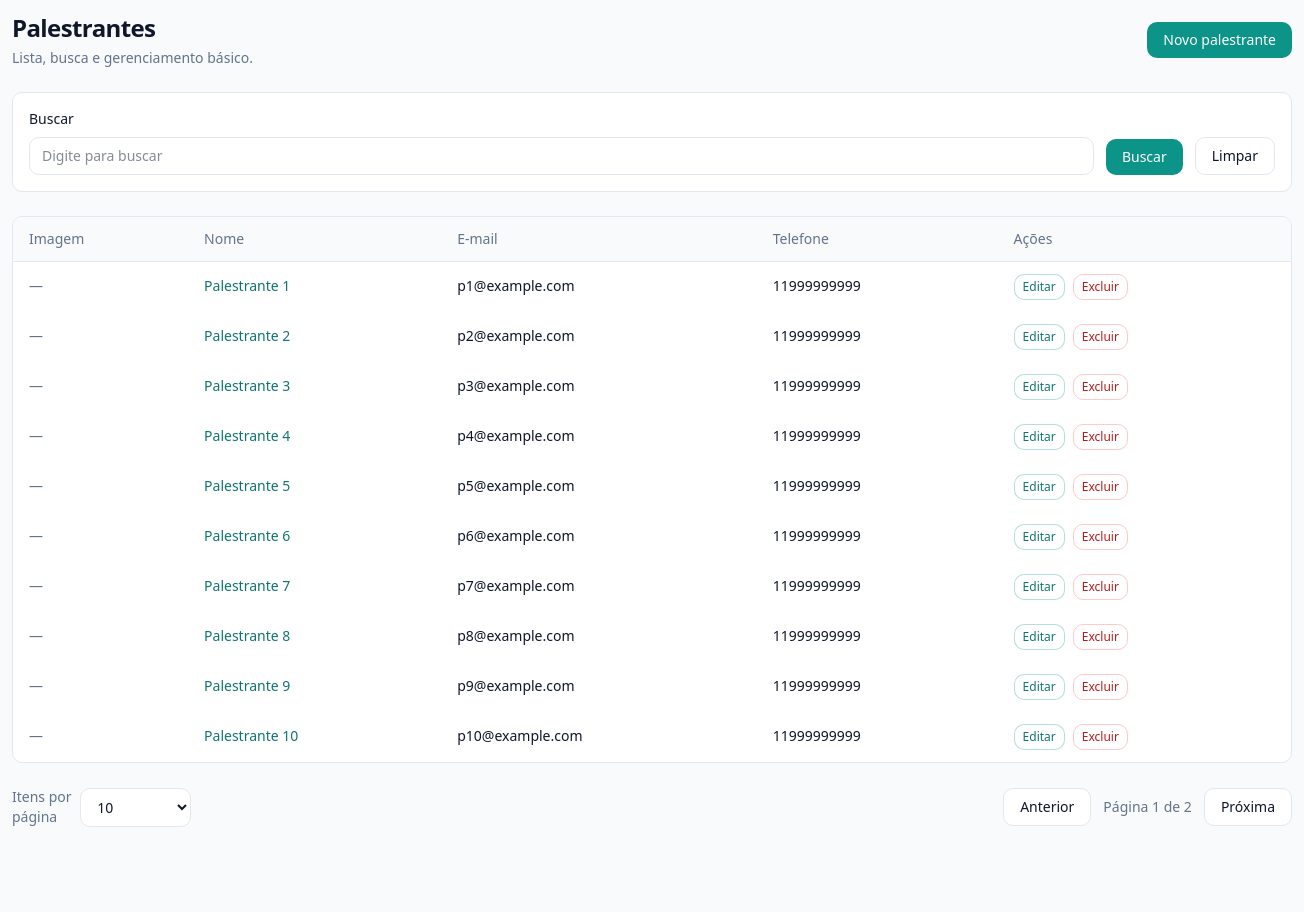
Test: PalestrantesPage › pagina lista de palestrantes
This screenshot has width=1304, height=912.
Check: the text "Página 1 de 2" is shown, box left=1103, top=797, right=1192, bottom=817
Check: the text "Palestrante 11" is not shown
Click the button "Próxima".
click(1248, 807)  # box left=1204, top=788, right=1292, bottom=826
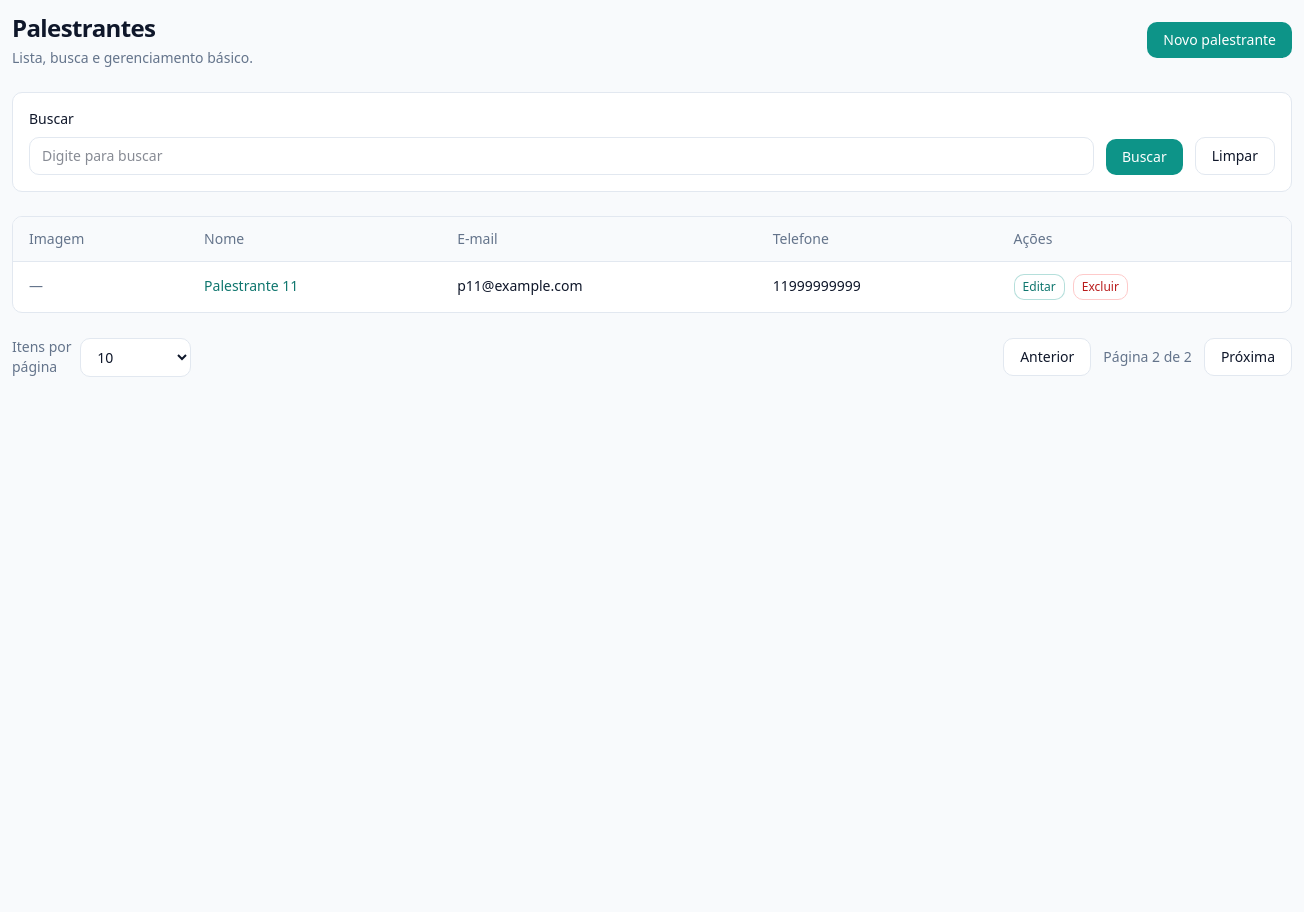
Check: the link "Palestrante 11" is shown, box left=204, top=276, right=298, bottom=295
Check: the text "Página 2 de 2" is shown, box left=1103, top=347, right=1192, bottom=367
